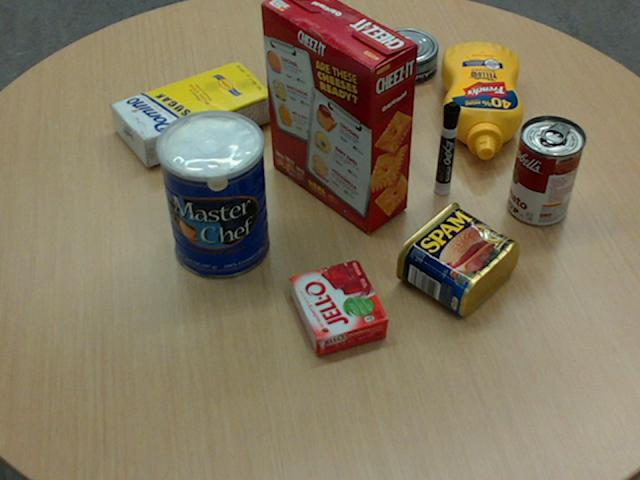cracker_box: (260, 0, 416, 232)
gelatin_box: (289, 259, 388, 355)
large_marker: (434, 102, 460, 194)
master_chef_can: (156, 110, 268, 279)
mug: (328, 34, 405, 127)
mustard_bottle: (440, 42, 522, 159)
potted_meat_can: (394, 200, 517, 315)
sugar_box: (110, 60, 274, 166)
tomato_soup_can: (508, 115, 585, 225)
tuna_fish_can: (373, 27, 437, 83)
